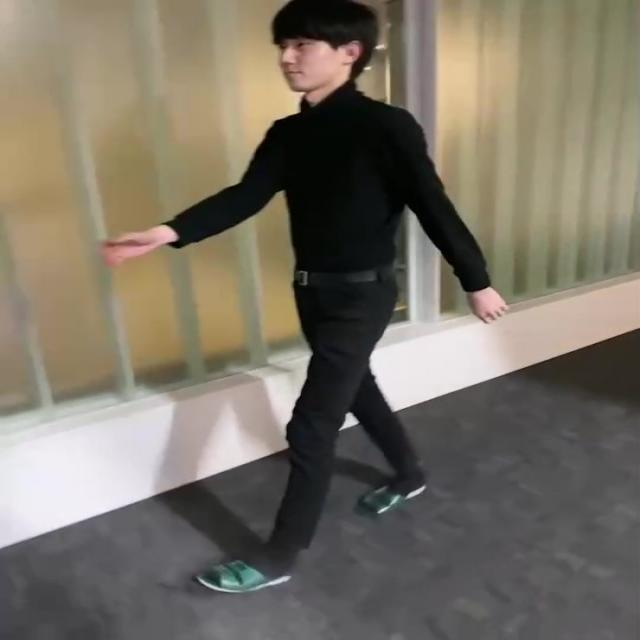direk: (102, 2, 510, 594)
